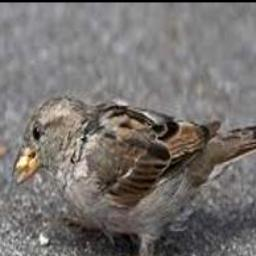Sparrow: (11, 95, 256, 256)
